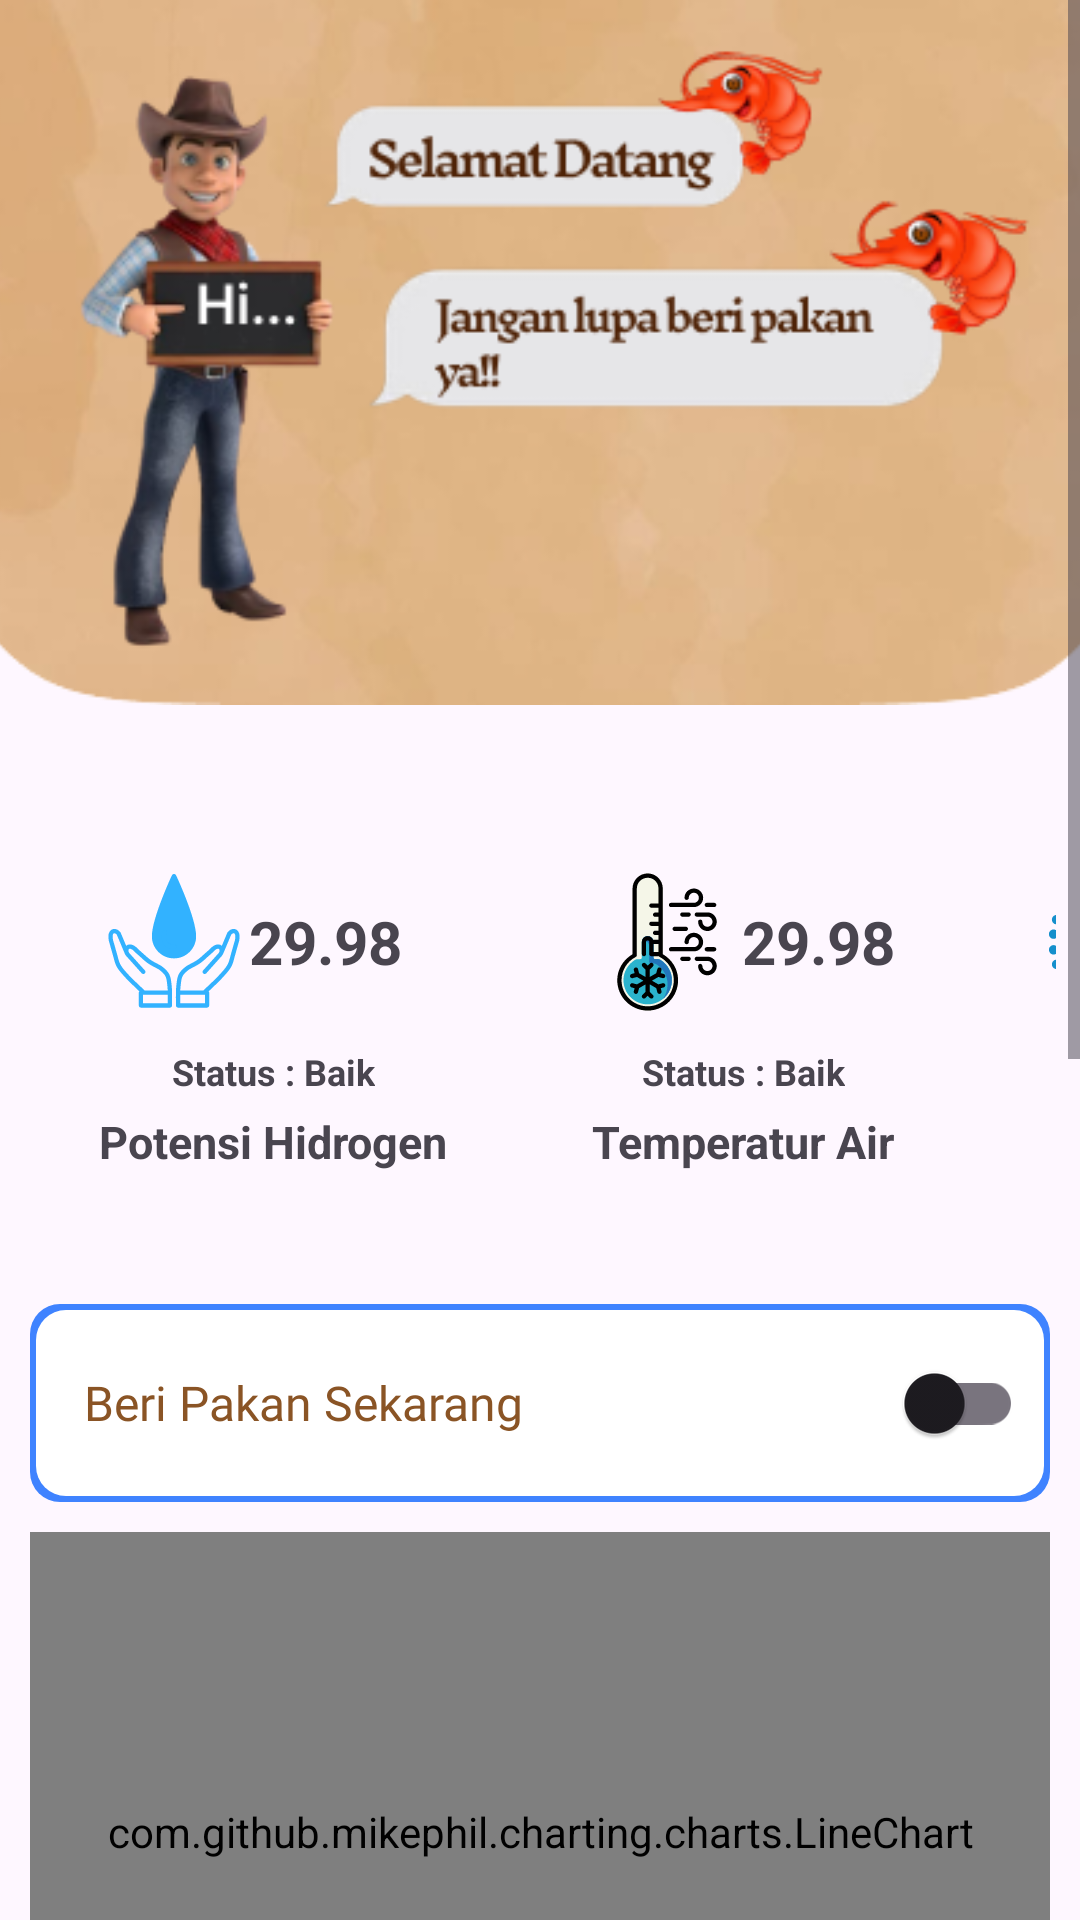

Where to tap for icons on this 1080px x 1920px app screen, as point (x, y):
suhu baik: point (667, 942)
